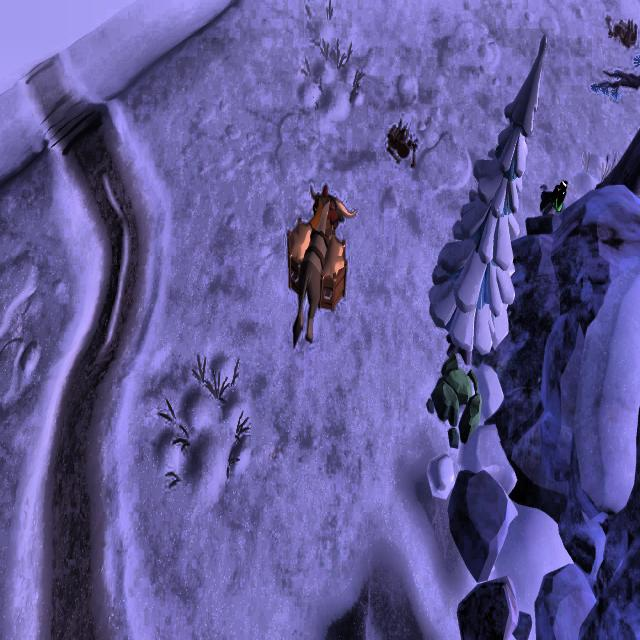ore_t3: (550, 178, 568, 209)
rock_t3: (421, 350, 482, 445)
